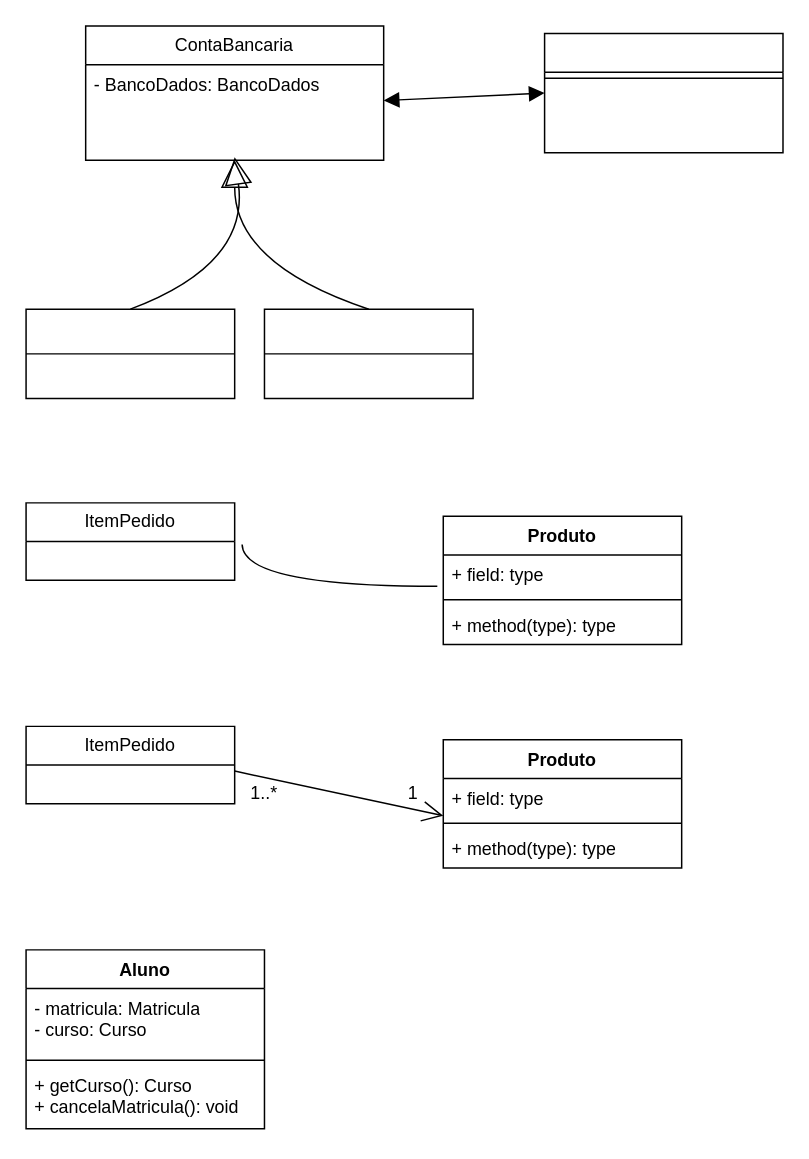
This 809x1159 diagram has some shape labels left out. The shapes that lost their labels are listed below. From the top down, each one's centre as x and y in pixels, then its label:
At point 663,92: "Cliente".
At point 130,353: "ContaPoupanca".
At point 368,353: "ContaSalario".
